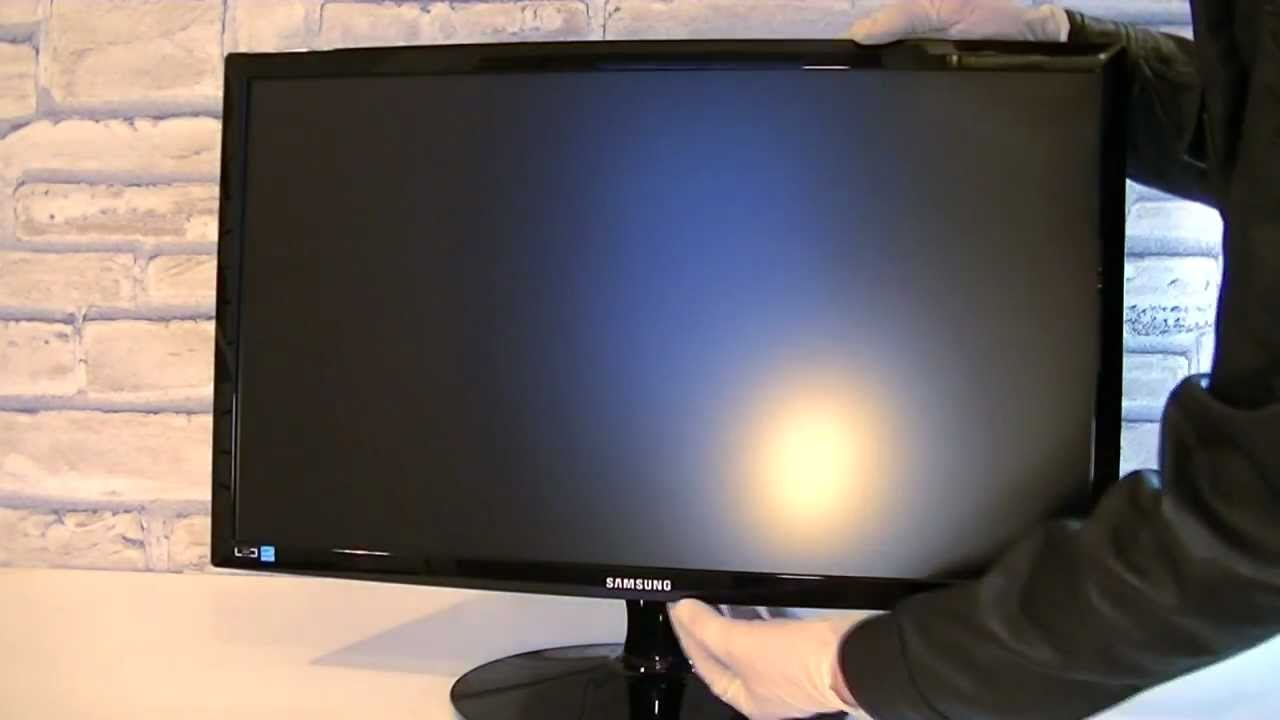tvmonitor: (207, 44, 1131, 720)
